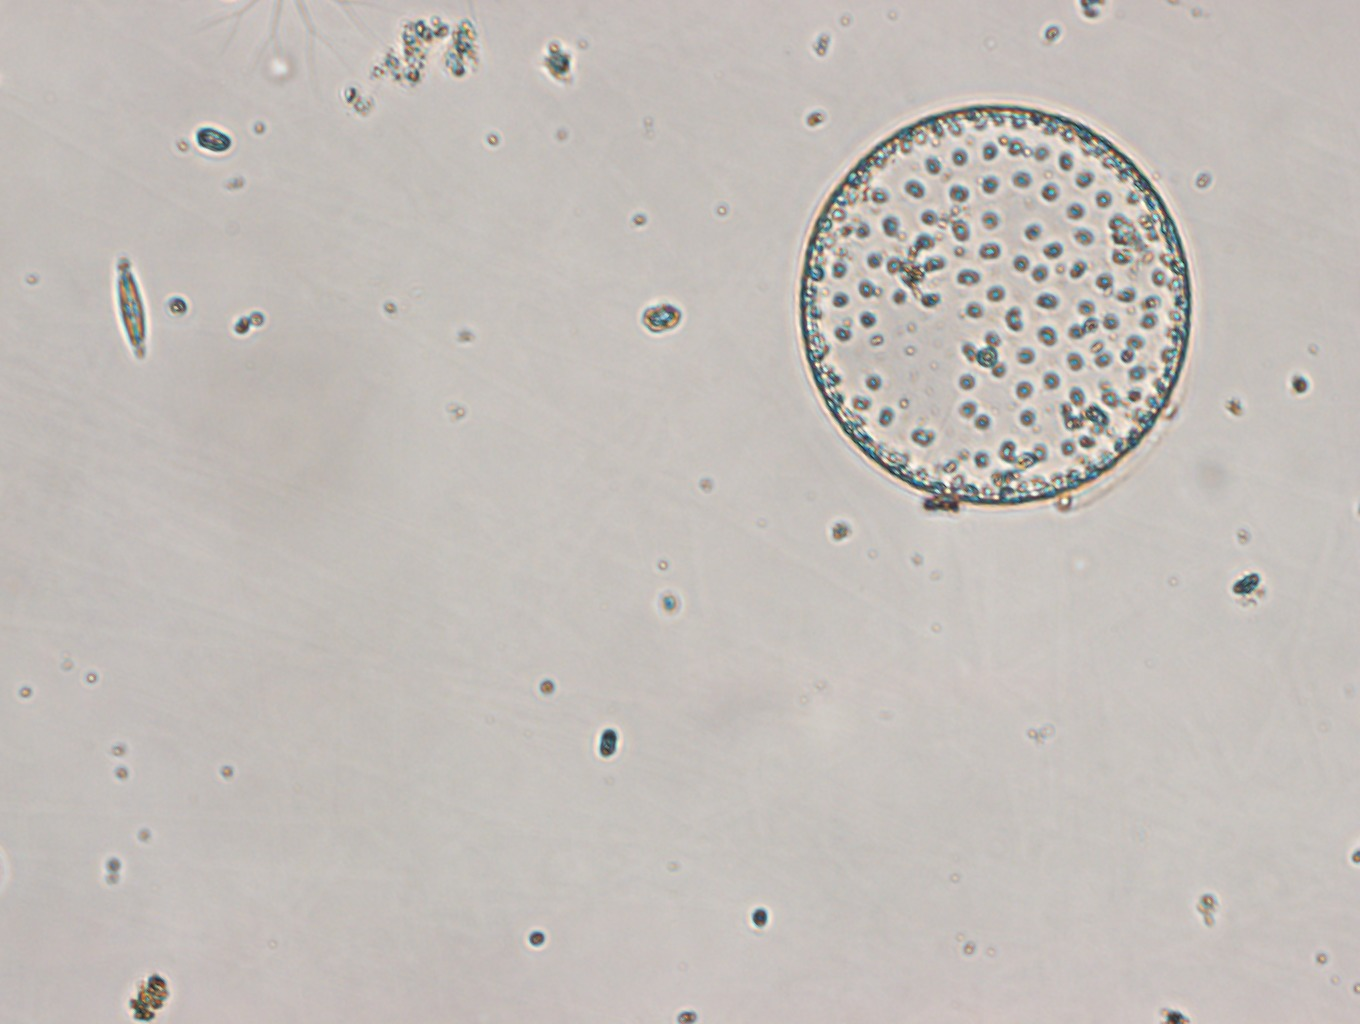coscinodiscus: (797, 103, 1192, 507)
navicula: (115, 255, 147, 361)
